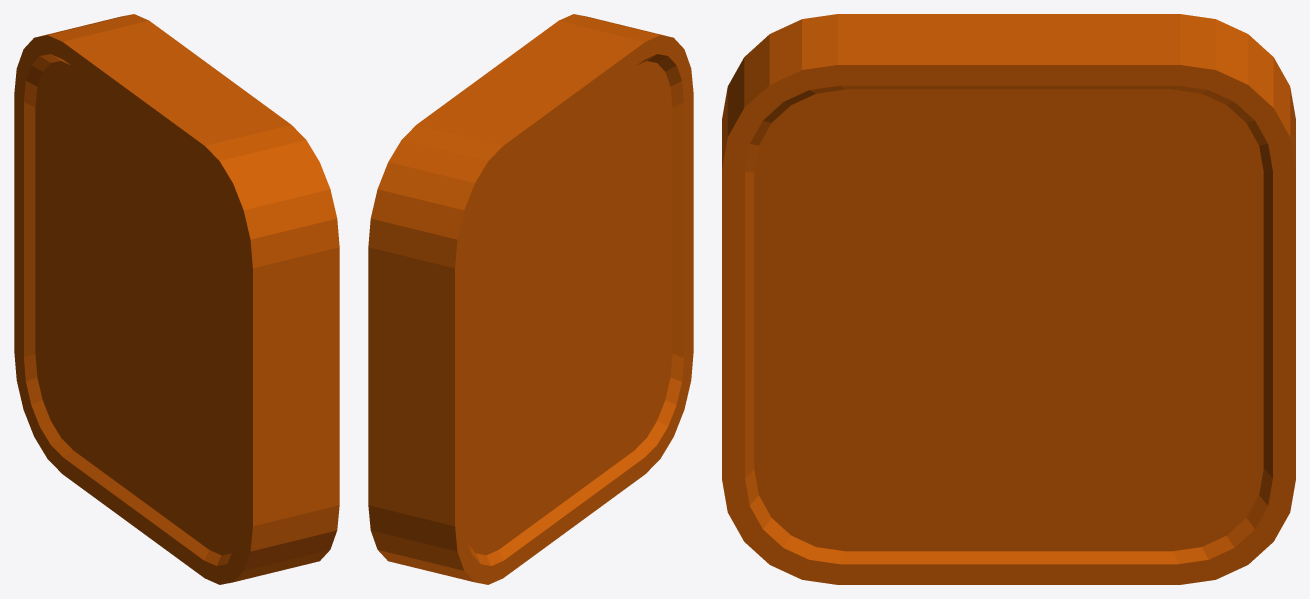
File: Coin.fbx
The picture shows the model from 3 angles, left to right: view 1: azimuth 30°, elevation 25°; view 2: azimuth 150°, elevation 25°; view 3: azimuth 270°, elevation 25°; orthographic projection. The views are drawn at different scales.
Visible parts, largest first — view 1: regular coin; view 2: regular coin; view 3: regular coin.
Part boxes in pixels (x1,y1,x2,y2): regular coin: [14, 14, 339, 584]; regular coin: [368, 14, 693, 584]; regular coin: [722, 14, 1295, 584].
Bounding box in the file's own units: 11.19 × 53.31 × 53.31.
